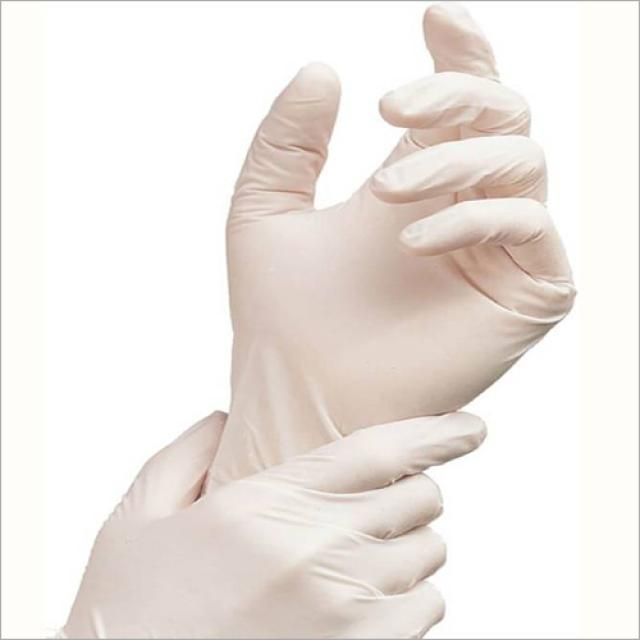Gloves: (215, 1, 597, 466), (59, 425, 459, 630)
